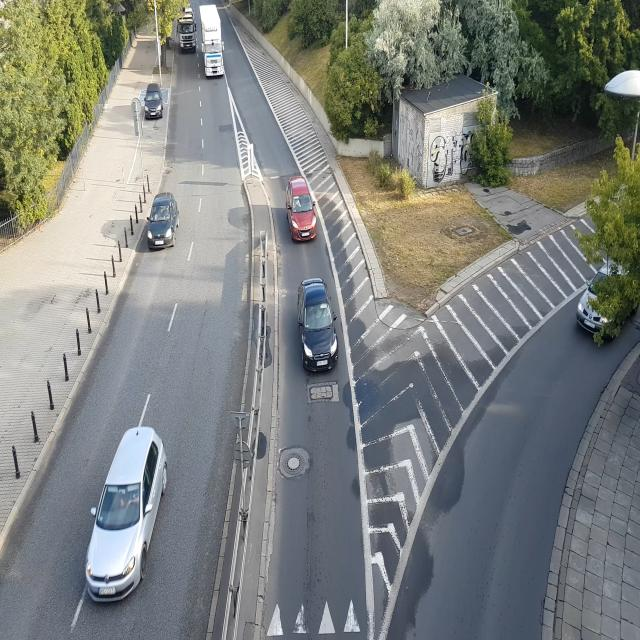car: (84, 416, 174, 607), (576, 244, 630, 343), (298, 277, 338, 372), (285, 178, 318, 242), (144, 195, 180, 250), (143, 88, 165, 120)
truck: (199, 5, 226, 80), (175, 16, 198, 53)
